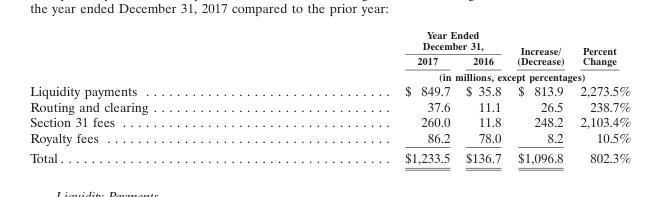table: (29, 28, 630, 165)
table column: (29, 28, 276, 165), (276, 28, 457, 165), (508, 28, 571, 165), (571, 28, 630, 165), (457, 28, 508, 165)
table column header: (29, 28, 630, 82)
table row: (29, 28, 630, 52), (29, 129, 630, 147), (29, 147, 630, 165), (29, 52, 630, 68), (29, 82, 630, 98), (29, 113, 630, 129), (29, 98, 630, 113), (29, 68, 630, 82)
table spanning cell: (276, 28, 508, 52), (276, 68, 630, 82), (508, 28, 571, 68), (571, 28, 630, 68)
